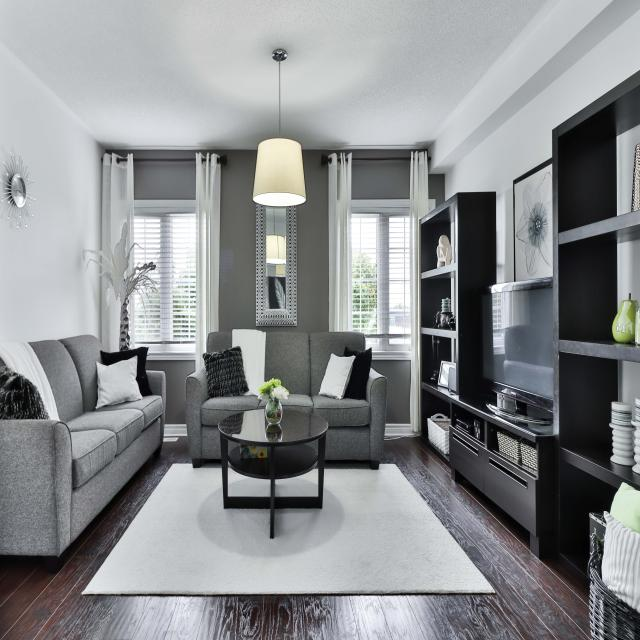floor: (0, 437, 592, 640)
wall: (105, 149, 428, 336), (445, 9, 640, 284), (428, 0, 613, 174), (0, 42, 105, 345), (145, 353, 196, 437), (371, 352, 421, 437), (133, 161, 196, 200), (351, 160, 411, 200), (616, 125, 640, 216), (617, 239, 640, 313), (618, 360, 640, 420), (428, 174, 445, 208)
